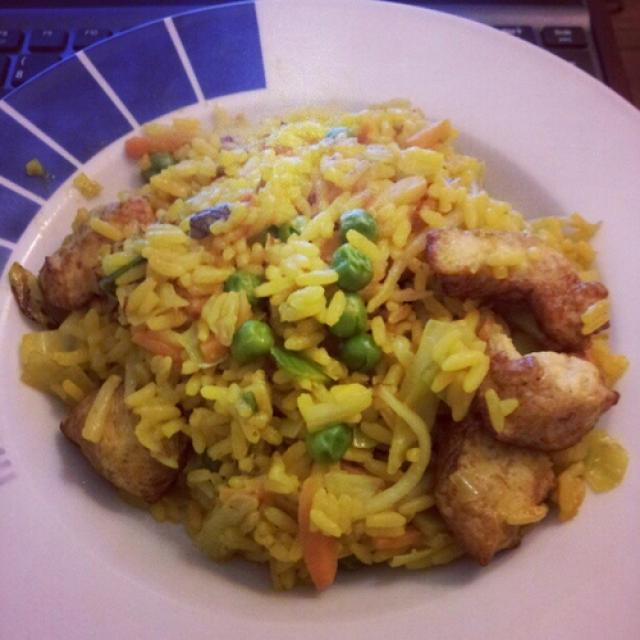米饭主食: (33, 55, 621, 616)
